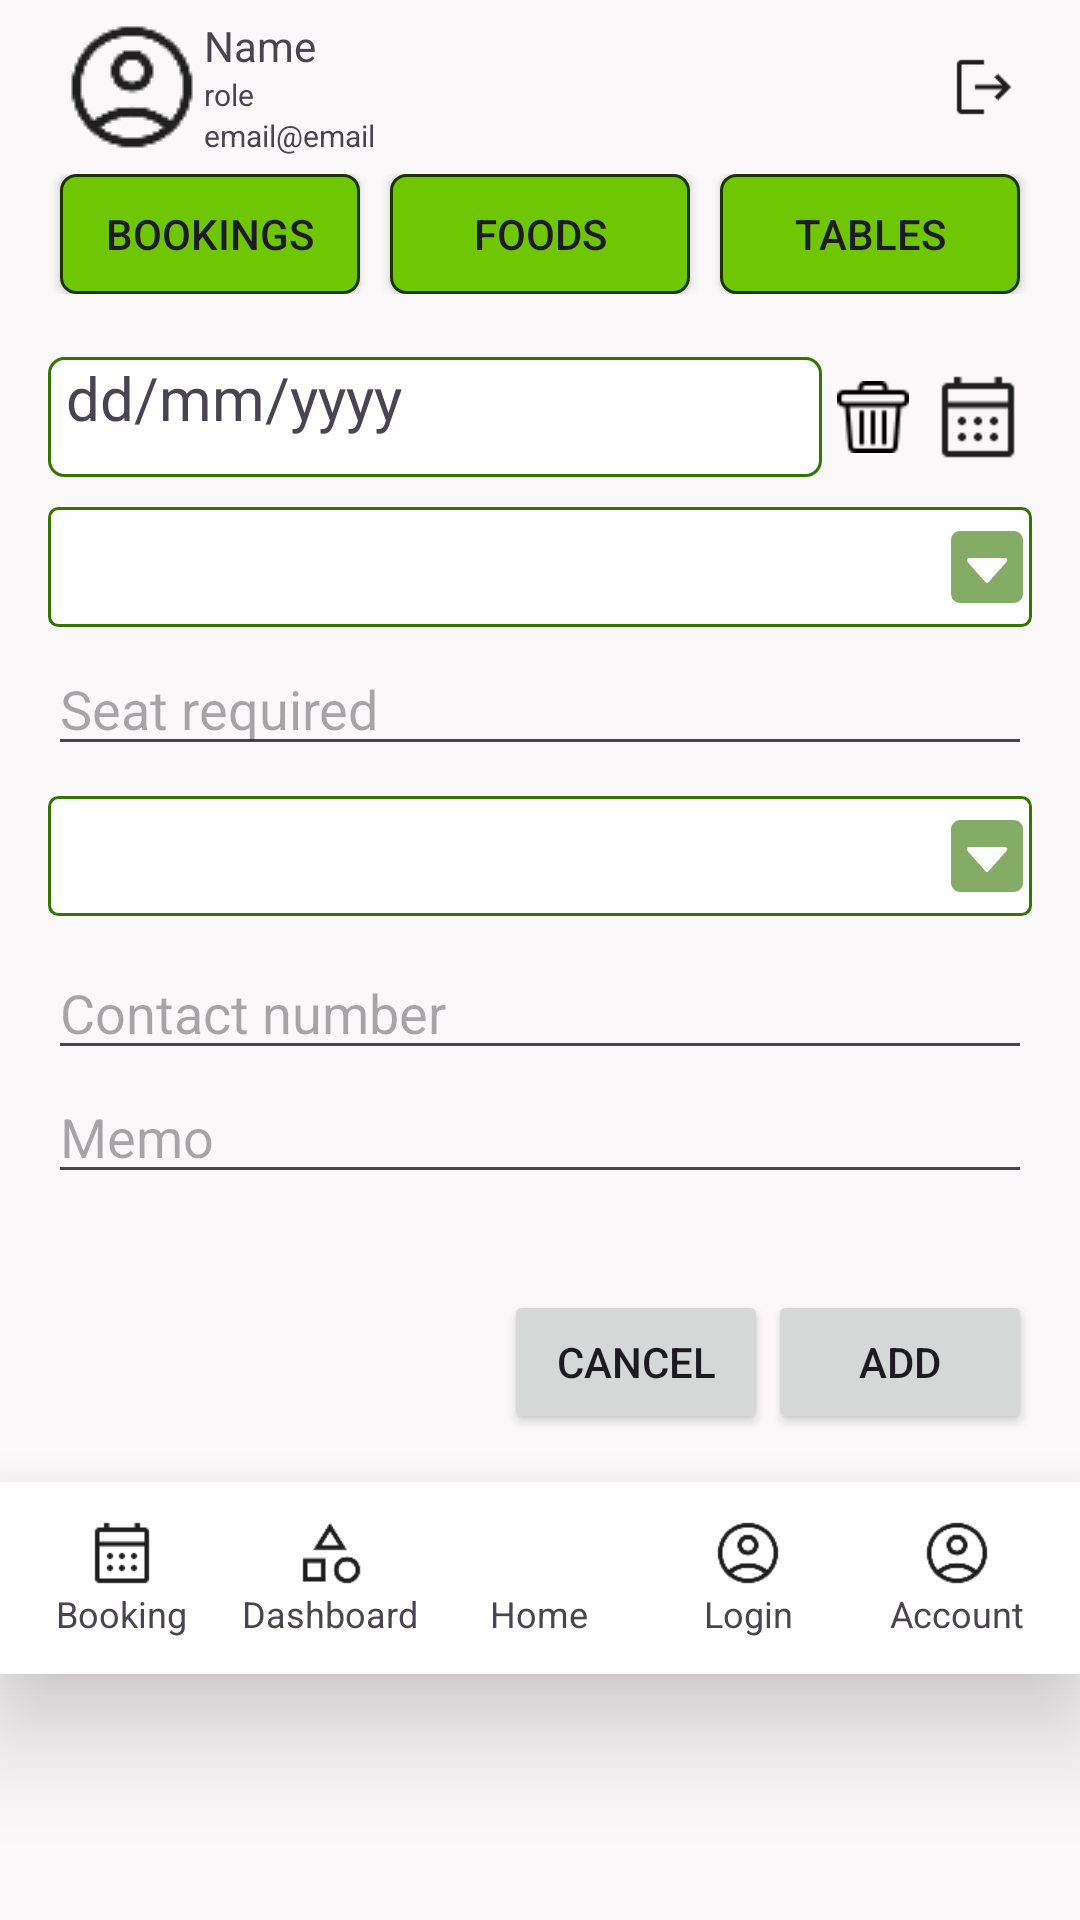

Screen size 1080w x 1920h. Icon name, then its center in pixels as (x=x, y=y):
calendar: (x=978, y=417), (x=122, y=1553)
category: (x=331, y=1553)
delete: (x=873, y=417)
